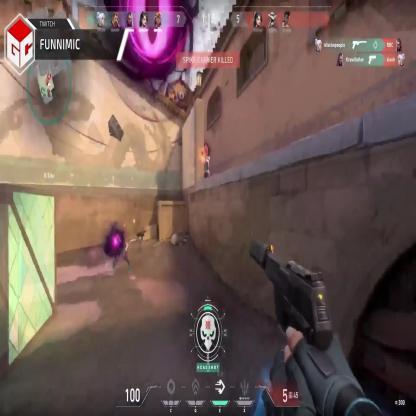enemy: (201, 149, 210, 184)
enemy_head: (203, 148, 208, 158)
